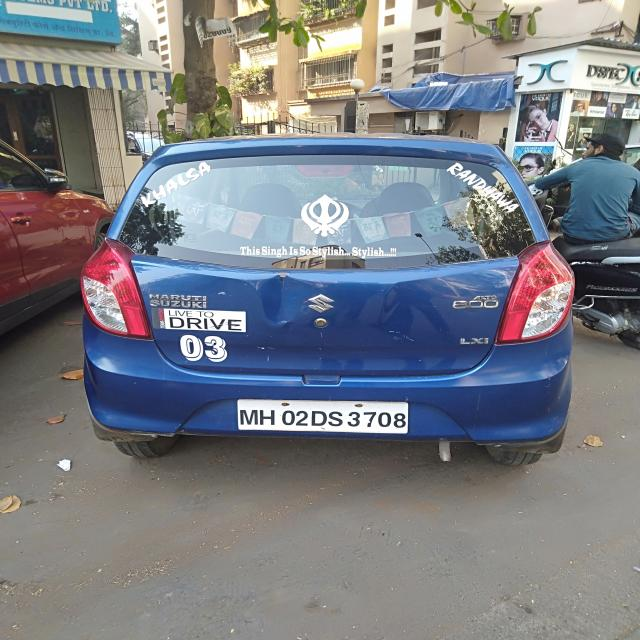Number-Plate: (234, 399, 411, 432)
